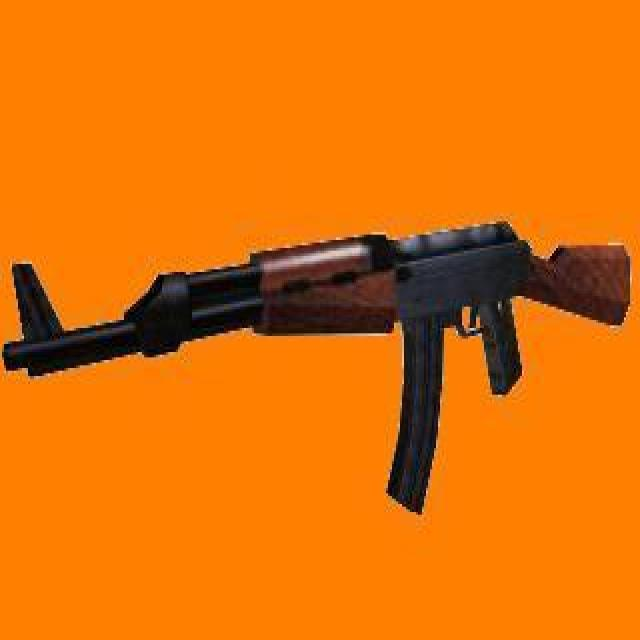Gun: (6, 221, 640, 512)
